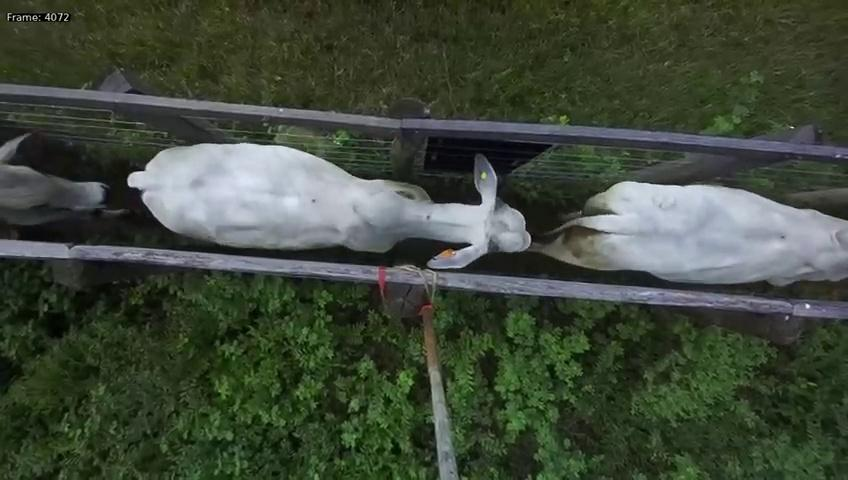cattle: (131, 139, 533, 268), (555, 170, 848, 287), (0, 118, 107, 235)
